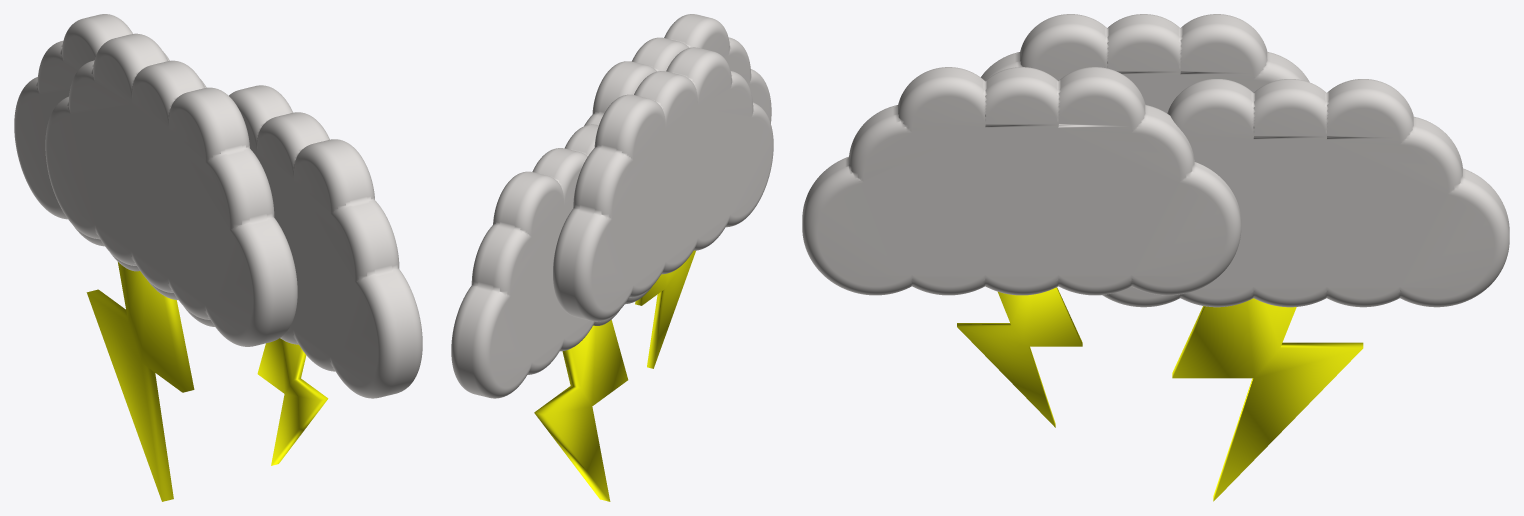
The model's file is Thunder-Strom.glb.
The picture shows the model from 3 angles, left to right: view 1: azimuth 30°, elevation 25°; view 2: azimuth 150°, elevation 25°; view 3: azimuth 270°, elevation 25°; orthographic projection. The views are drawn at different scales.
Visible parts, largest first — view 1: thunderStrom, thunderStrom.001; view 2: thunderStrom, thunderStrom.001; view 3: thunderStrom, thunderStrom.001.
Part boxes in pixels (x1=…): thunderStrom: x1=14, y1=14, x2=422, y2=398; thunderStrom.001: x1=86, y1=262, x2=328, y2=501; thunderStrom: x1=451, y1=14, x2=773, y2=398; thunderStrom.001: x1=534, y1=250, x2=695, y2=501; thunderStrom: x1=802, y1=14, x2=1509, y2=307; thunderStrom.001: x1=957, y1=287, x2=1363, y2=501.
Bounding box in the file's own units: 10.6 × 44.52 × 61.45.
